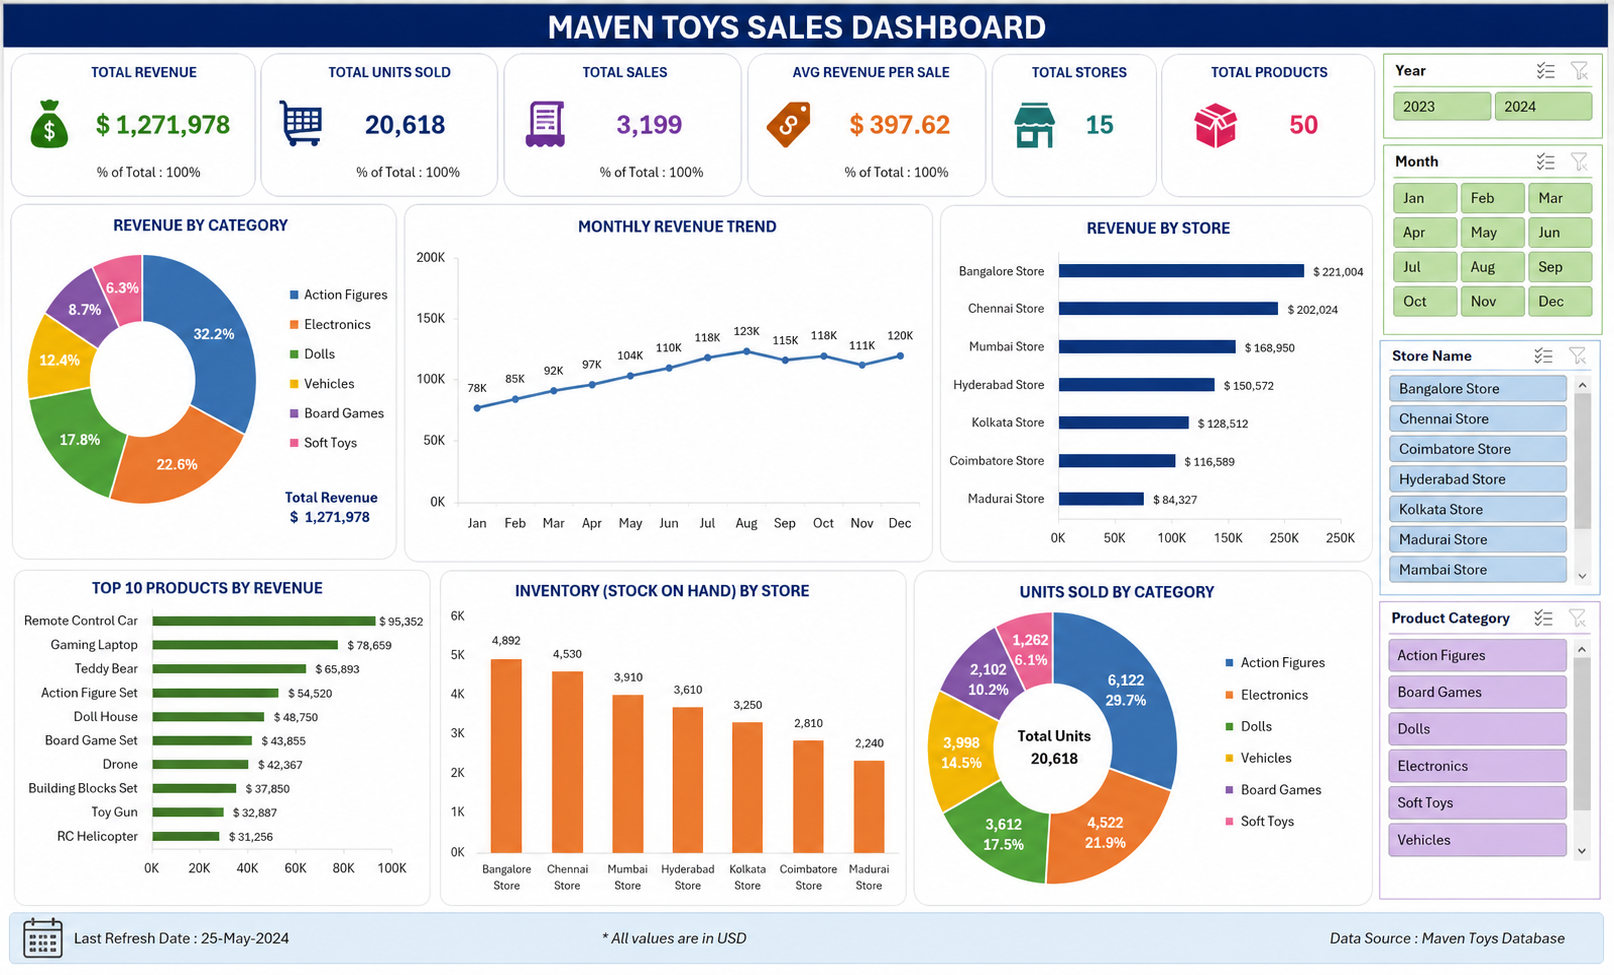

Layout of this report page (visuals, bound fields, positions):
{"tool":"powerbi","page":{"name":"Time & Performance analysis","canvas":[1920,1080],"ordinal":5},"visuals":[{"type":"shape","box":[1420.4,338.8,481.6,400],"z":0},{"type":"shape","box":[936.7,338.8,463.3,400],"z":1000},{"type":"shape","box":[202,342.9,718.4,395.9],"z":2000},{"type":"shape","box":[0,0,184.6,1080.4],"z":3000},{"type":"shape","box":[1436.9,14.5,293.2,126.7],"z":4000},{"type":"shape","box":[1125.6,12.7,293.2,126.7],"z":5000},{"type":"shape","box":[810.7,14.5,291.4,124.9],"z":6000},{"type":"cardVisual","fields":{"Data":["Measure_table.Total Revenue"]},"box":[206.1,151,312.2,171.4],"z":7000},{"type":"slicer","fields":{"Values":["calendar.Month Name"]},"box":[830.6,29,257,99.5],"z":8000},{"type":"textbox","box":[36.8,413.4,121.2,39],"z":9000},{"type":"shape","box":[495.8,14.5,293.2,126.7],"z":10000},{"type":"slicer","fields":{"Values":["calendar.Year"]},"box":[519.4,27.1,246.1,99.5],"z":11000},{"type":"slicer","fields":{"Values":["products.Product_Category"]},"box":[1141.9,30.8,257,99.5],"z":12000},{"type":"slicer","fields":{"Values":["stores.Store_Name"]},"box":[1455,30.8,257,99.5],"z":13000},{"type":"textbox","box":[207.1,14.3,289.3,126.8],"z":14000},{"type":"image","box":[8.7,15.1,175.3,149.3],"z":15000},{"type":"image","box":[54.1,322.5,88.7,90.9],"z":16000},{"type":"image","box":[47.6,512.9,88.7,101.7],"z":17000},{"type":"textbox","box":[39,614.6,121.2,45.4],"z":18000},{"type":"image","box":[56.3,720.7,82.2,86.6],"z":19000},{"type":"textbox","box":[10.8,807.2,175.3,45.4],"z":20000},{"type":"lineChart","title":"Revenue Trend vs Previous year Revenue","fields":{"Category":["calendar.Month Name"],"Y":["Sum(sales.Revenue)","Measure_table.Previous year revenue"]},"box":[230.6,357.1,661.2,361.2],"z":21000},{"type":"shape","box":[206.1,753.1,1695.9,310.2],"z":22000},{"type":"columnChart","title":"YTD Revenue","fields":{"Category":["calendar.Year"],"Series":["calendar.Month"],"Y":["Measure_table.YTD Revenue"]},"box":[220.4,763.3,477.6,283.7],"z":23000},{"type":"shape","box":[1744.6,12.5,126.8,128.6],"z":24000},{"type":"cardVisual","fields":{"Data":["Measure_table.Previous year revenue"]},"box":[536.7,151,322.4,171.4],"z":25000},{"type":"cardVisual","fields":{"Data":["Measure_table.MTD Revenue"]},"box":[1569.4,151,322.4,171.4],"z":26000},{"type":"cardVisual","fields":{"Data":["Measure_table.QTD Revenue"]},"box":[1220.4,151,322.4,171.4],"z":27000},{"type":"cardVisual","fields":{"Data":["Measure_table.YTD Revenue"]},"box":[879.6,151,322.4,171.4],"z":28000},{"type":"tableEx","title":"MOM Growth %","fields":{"Values":["calendar.Year","calendar.Month Name","Measure_table.MOM Growth%"]},"box":[961.2,359.2,424.5,363.3],"z":29000},{"type":"tableEx","title":"YOY Growth %","fields":{"Values":["calendar.Year","calendar.Month Name","Measure_table.YOY growth %"]},"box":[1436.7,359.2,471.4,363.3],"z":30000},{"type":"columnChart","title":"QTD Revenue","fields":{"Category":["calendar.Quarter"],"Series":["calendar.Year"],"Y":["Measure_table.QTD Revenue"]},"box":[1361.2,767.3,518.4,283.7],"z":31000},{"type":"columnChart","title":"MTD Revenue","fields":{"Category":["calendar.Month Name"],"Series":["calendar.Year"],"Y":["Measure_table.MTD Revenue"]},"box":[763.3,767.3,581.6,283.7],"z":32000},{"type":"textbox","box":[1785.7,26.5,85.7,40.8],"z":33000},{"type":"actionButton","box":[1757.1,69.4,100,40.8],"z":34000}]}

Visuals, with their boxes on the page's 1920x1080 design canvas (x1, y1, x2, y2). These are canvas units, not pixel positions in the 1614x975 screenshot, which may show the page scaled, cropped or inside an application window:
shape: {"left": 1420, "top": 339, "right": 1902, "bottom": 739}
shape: {"left": 937, "top": 339, "right": 1400, "bottom": 739}
shape: {"left": 202, "top": 343, "right": 920, "bottom": 739}
shape: {"left": 0, "top": 0, "right": 185, "bottom": 1080}
shape: {"left": 1437, "top": 14, "right": 1730, "bottom": 141}
shape: {"left": 1126, "top": 13, "right": 1419, "bottom": 139}
shape: {"left": 811, "top": 14, "right": 1102, "bottom": 139}
cardVisual - Measure_table.Total Revenue: {"left": 206, "top": 151, "right": 518, "bottom": 322}
slicer - calendar.Month Name: {"left": 831, "top": 29, "right": 1088, "bottom": 128}
textbox: {"left": 37, "top": 413, "right": 158, "bottom": 452}
shape: {"left": 496, "top": 14, "right": 789, "bottom": 141}
slicer - calendar.Year: {"left": 519, "top": 27, "right": 766, "bottom": 127}
slicer - products.Product_Category: {"left": 1142, "top": 31, "right": 1399, "bottom": 130}
slicer - stores.Store_Name: {"left": 1455, "top": 31, "right": 1712, "bottom": 130}
textbox: {"left": 207, "top": 14, "right": 496, "bottom": 141}
image: {"left": 9, "top": 15, "right": 184, "bottom": 164}
image: {"left": 54, "top": 322, "right": 143, "bottom": 413}
image: {"left": 48, "top": 513, "right": 136, "bottom": 615}
textbox: {"left": 39, "top": 615, "right": 160, "bottom": 660}
image: {"left": 56, "top": 721, "right": 138, "bottom": 807}
textbox: {"left": 11, "top": 807, "right": 186, "bottom": 853}
"Revenue Trend vs Previous year Revenue" lineChart: {"left": 231, "top": 357, "right": 892, "bottom": 718}
shape: {"left": 206, "top": 753, "right": 1902, "bottom": 1063}
"YTD Revenue" columnChart: {"left": 220, "top": 763, "right": 698, "bottom": 1047}
shape: {"left": 1745, "top": 12, "right": 1871, "bottom": 141}
cardVisual - Measure_table.Previous year revenue: {"left": 537, "top": 151, "right": 859, "bottom": 322}
cardVisual - Measure_table.MTD Revenue: {"left": 1569, "top": 151, "right": 1892, "bottom": 322}
cardVisual - Measure_table.QTD Revenue: {"left": 1220, "top": 151, "right": 1543, "bottom": 322}
cardVisual - Measure_table.YTD Revenue: {"left": 880, "top": 151, "right": 1202, "bottom": 322}
"MOM Growth %" tableEx: {"left": 961, "top": 359, "right": 1386, "bottom": 722}
"YOY Growth %" tableEx: {"left": 1437, "top": 359, "right": 1908, "bottom": 722}
"QTD Revenue" columnChart: {"left": 1361, "top": 767, "right": 1880, "bottom": 1051}
"MTD Revenue" columnChart: {"left": 763, "top": 767, "right": 1345, "bottom": 1051}
textbox: {"left": 1786, "top": 26, "right": 1871, "bottom": 67}
actionButton: {"left": 1757, "top": 69, "right": 1857, "bottom": 110}
